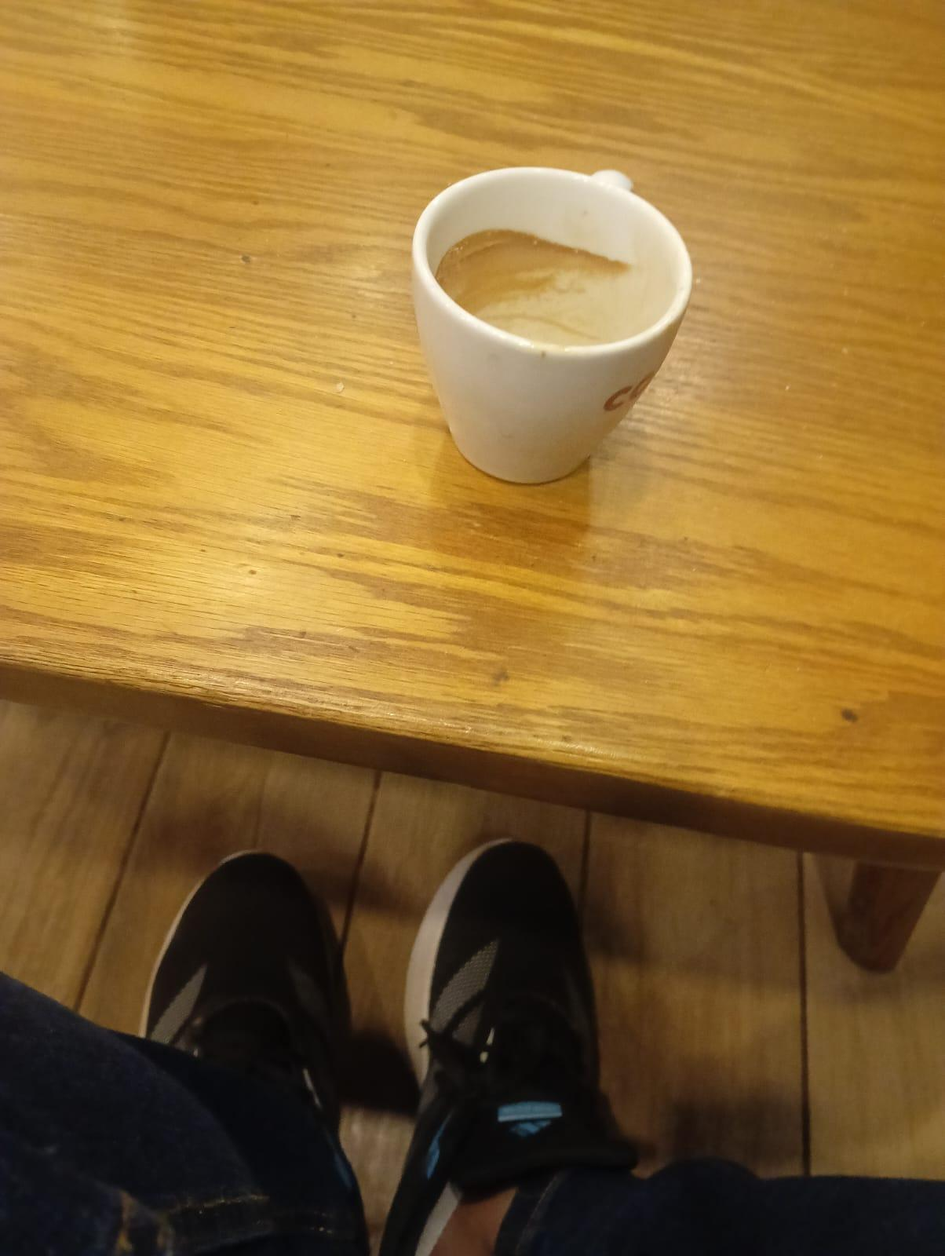cup: (412, 167, 691, 482)
